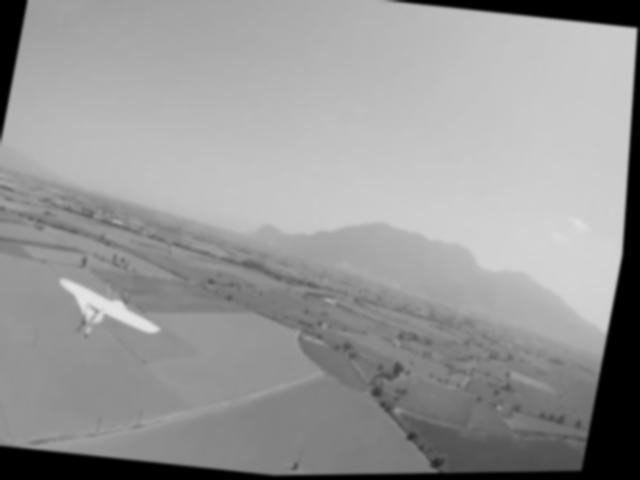hedef: (44, 266, 178, 352)
